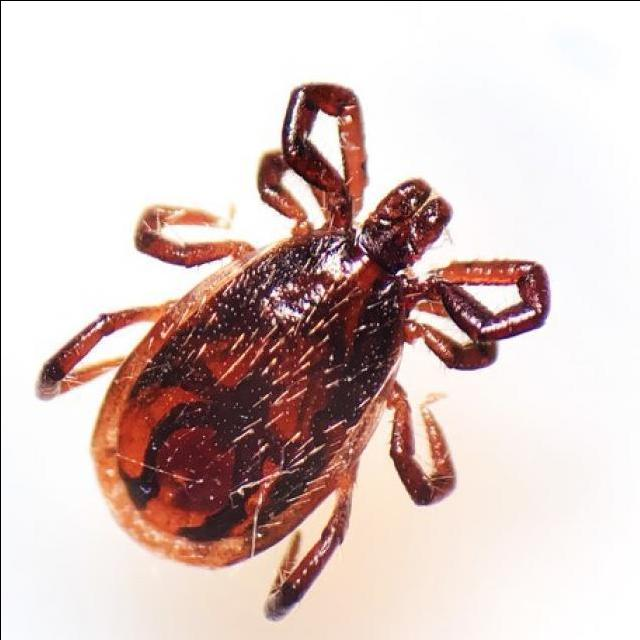Ixodes Ricinus-M: (34, 79, 552, 620)
